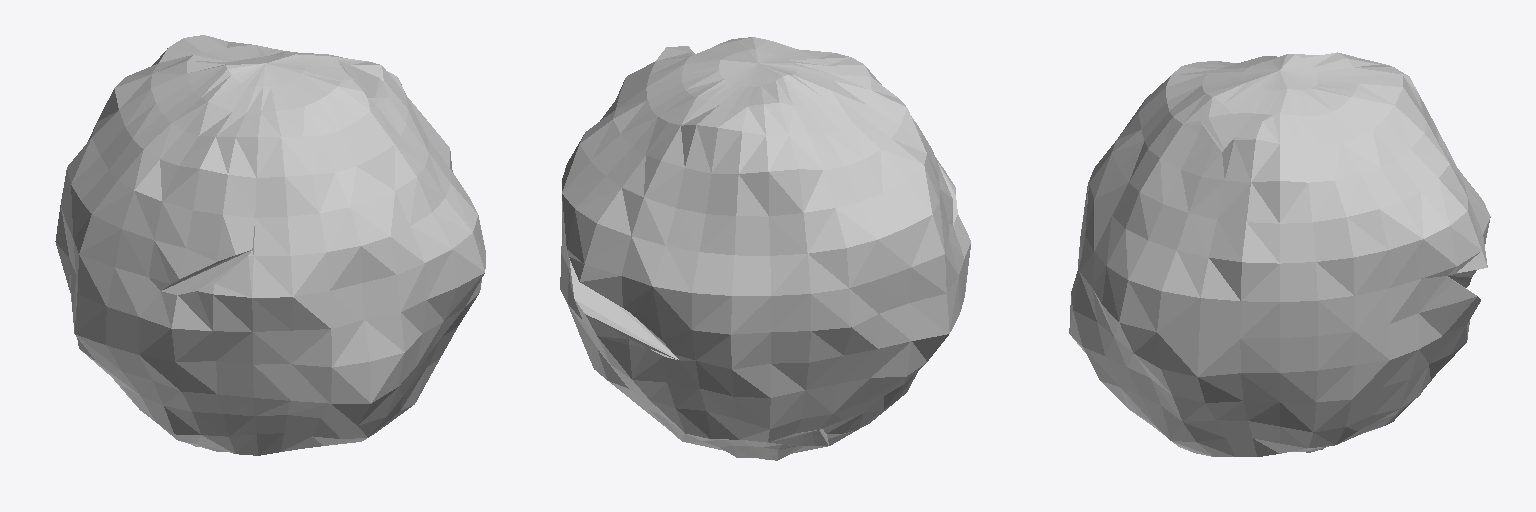
File: Boulder.obj
The picture shows the model from 3 angles: view 1: azimuth 30°, elevation 25°; view 2: azimuth 150°, elevation 25°; view 3: azimuth 270°, elevation 25°; orthographic projection.
Visible parts, largest first — view 1: Sphere001; view 2: Sphere001; view 3: Sphere001.
Part boxes in pixels (x1,y1,x2,y2): Sphere001: (55, 35, 485, 455); Sphere001: (560, 37, 970, 460); Sphere001: (1069, 52, 1490, 456).
Size of the model in its own units: 27.11 by 27.21 by 27.24.